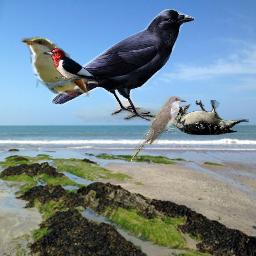Crow: (51, 9, 195, 122)
Cuckoo: (19, 32, 98, 97), (131, 96, 187, 162)
Woodpecker: (169, 100, 249, 135), (42, 48, 104, 85)
